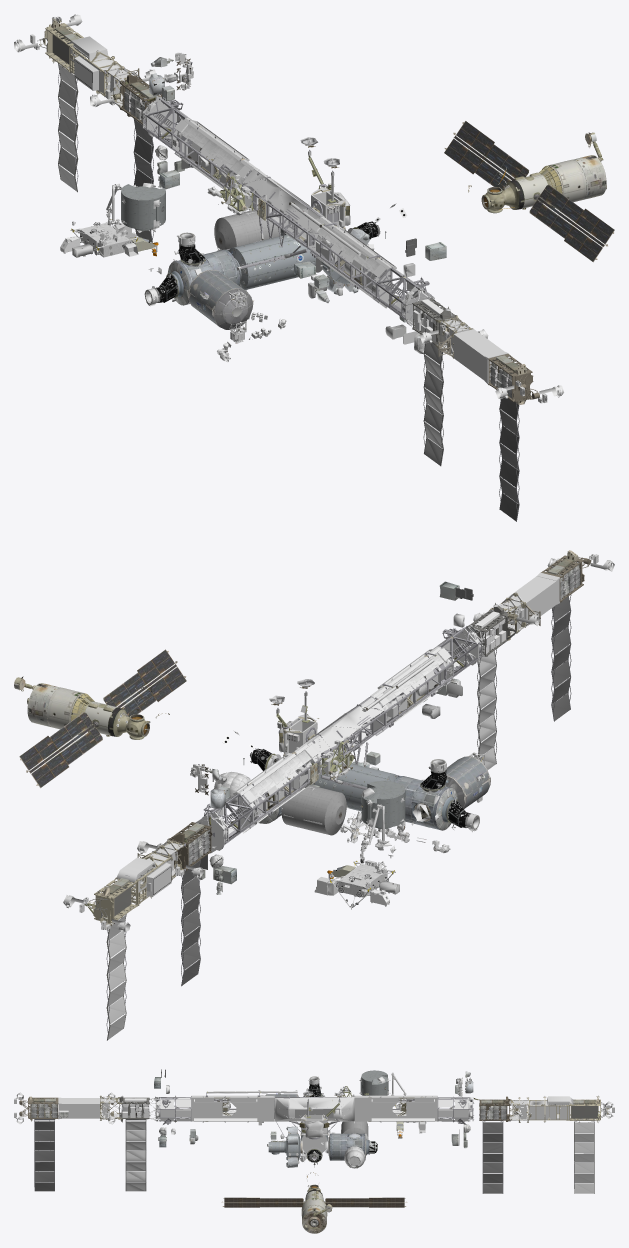
Rendered from iss_0.glb.
3 renders of one model, top to bottom at view 1: azimuth 30°, elevation 25°; view 2: azimuth 150°, elevation 25°; view 3: azimuth 270°, elevation 25°, orthographic. The views are drawn at different scales.
Parts seen in each view (by area): view 1: Payload_SPDM_Arm, Payload_ASIM, Zvezda_SM, Airlock, USLab.001, Columbus.001, JEM_PS, PMM.001, Node2_Details_NadirPortCover, Payload_BCDU4, PMA_Details_Targets, JEM_EF.001 (+1 smaller); view 2: Payload_SPDM_Arm, Payload_ASIM, Zvezda_SM, Airlock, PMM.001, Node2_Details_NadirPortCover, JEM_PS, Columbus.001, USLab.001, PMA_Details_Targets, JEM_EF.001, Payload_BCDU4; view 3: Payload_SPDM_Arm, Payload_ASIM, Airlock, Zvezda_SM, Node2_Details_NadirPortCover, JEM_PS, Payload_BCDU4, BEAM.001, PMM.001, PMA_Details_Targets.
Boxes of the visible parts, x1,y1,x2,y2 form: Payload_SPDM_Arm: (39, 17, 539, 521); Payload_ASIM: (14, 14, 563, 403); Zvezda_SM: (444, 121, 614, 262); Airlock: (102, 57, 416, 354); USLab.001: (228, 234, 315, 289); Columbus.001: (187, 270, 253, 329); JEM_PS: (121, 184, 165, 230); PMM.001: (214, 209, 280, 249); Node2_Details_NadirPortCover: (167, 229, 285, 305); Payload_BCDU4: (155, 145, 446, 278); PMA_Details_Targets: (145, 221, 380, 304); JEM_EF.001: (70, 219, 138, 257); Payload_SPDM_Arm: (84, 550, 591, 1040); Payload_ASIM: (63, 554, 614, 932); Zvezda_SM: (19, 649, 186, 787); Airlock: (199, 588, 483, 895); PMM.001: (281, 785, 346, 835); Node2_Details_NadirPortCover: (258, 759, 457, 830); JEM_PS: (361, 780, 405, 828); Columbus.001: (445, 756, 490, 808); USLab.001: (313, 762, 397, 811); PMA_Details_Targets: (250, 748, 479, 829); JEM_EF.001: (329, 861, 395, 906); Payload_BCDU4: (198, 581, 459, 884); Payload_SPDM_Arm: (19, 1078, 609, 1193); Payload_ASIM: (14, 1072, 614, 1163); Airlock: (164, 1069, 473, 1167); Zvezda_SM: (221, 1184, 407, 1233); Node2_Details_NadirPortCover: (303, 1093, 369, 1160); JEM_PS: (360, 1070, 388, 1095); Payload_BCDU4: (154, 1077, 470, 1147); BEAM.001: (161, 1069, 364, 1168); PMM.001: (341, 1121, 368, 1139); PMA_Details_Targets: (307, 1076, 322, 1162).
Bounding box in the file's own units: 5.34 × 2.25 × 10.08.
Materials: 25 (24 with a texture image).
